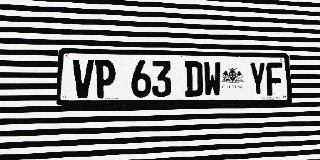3: (152, 60, 171, 97)
6: (131, 60, 151, 97)
D: (184, 61, 203, 97)
F: (266, 62, 283, 96)
P: (94, 60, 115, 98)
V: (72, 59, 94, 98)
W: (203, 61, 222, 97)
Y: (249, 62, 267, 96)
